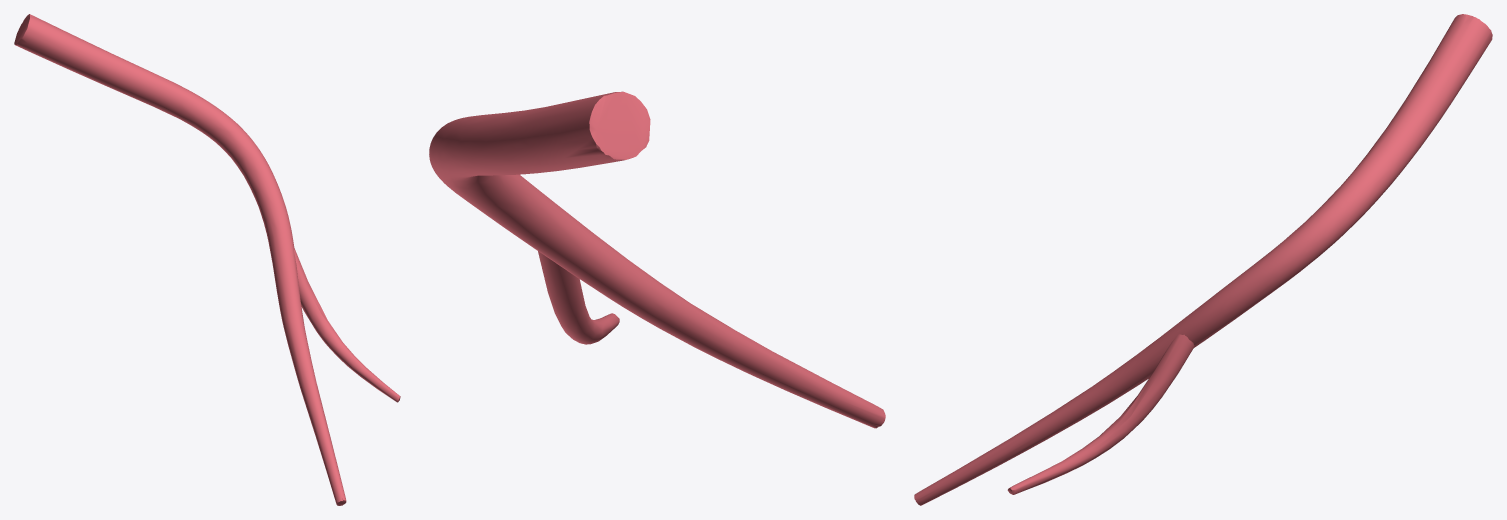
Rendered from fma68134_cx143.glb.
3 renders of one model, left to right at view 1: azimuth 30°, elevation 25°; view 2: azimuth 150°, elevation 25°; view 3: azimuth 270°, elevation 25°, orthographic. The views are drawn at different scales.
Parts seen in each view (by area): view 1: FMA68134_CX143; view 2: FMA68134_CX143; view 3: FMA68134_CX143.
Boxes of the visible parts, x1=… form: FMA68134_CX143: x1=14, y1=14, x2=400, y2=505; FMA68134_CX143: x1=429, y1=91, x2=885, y2=428; FMA68134_CX143: x1=914, y1=14, x2=1492, y2=505.
Bounding box in the file's own units: 0.0537 × 0.089 × 0.1071.
